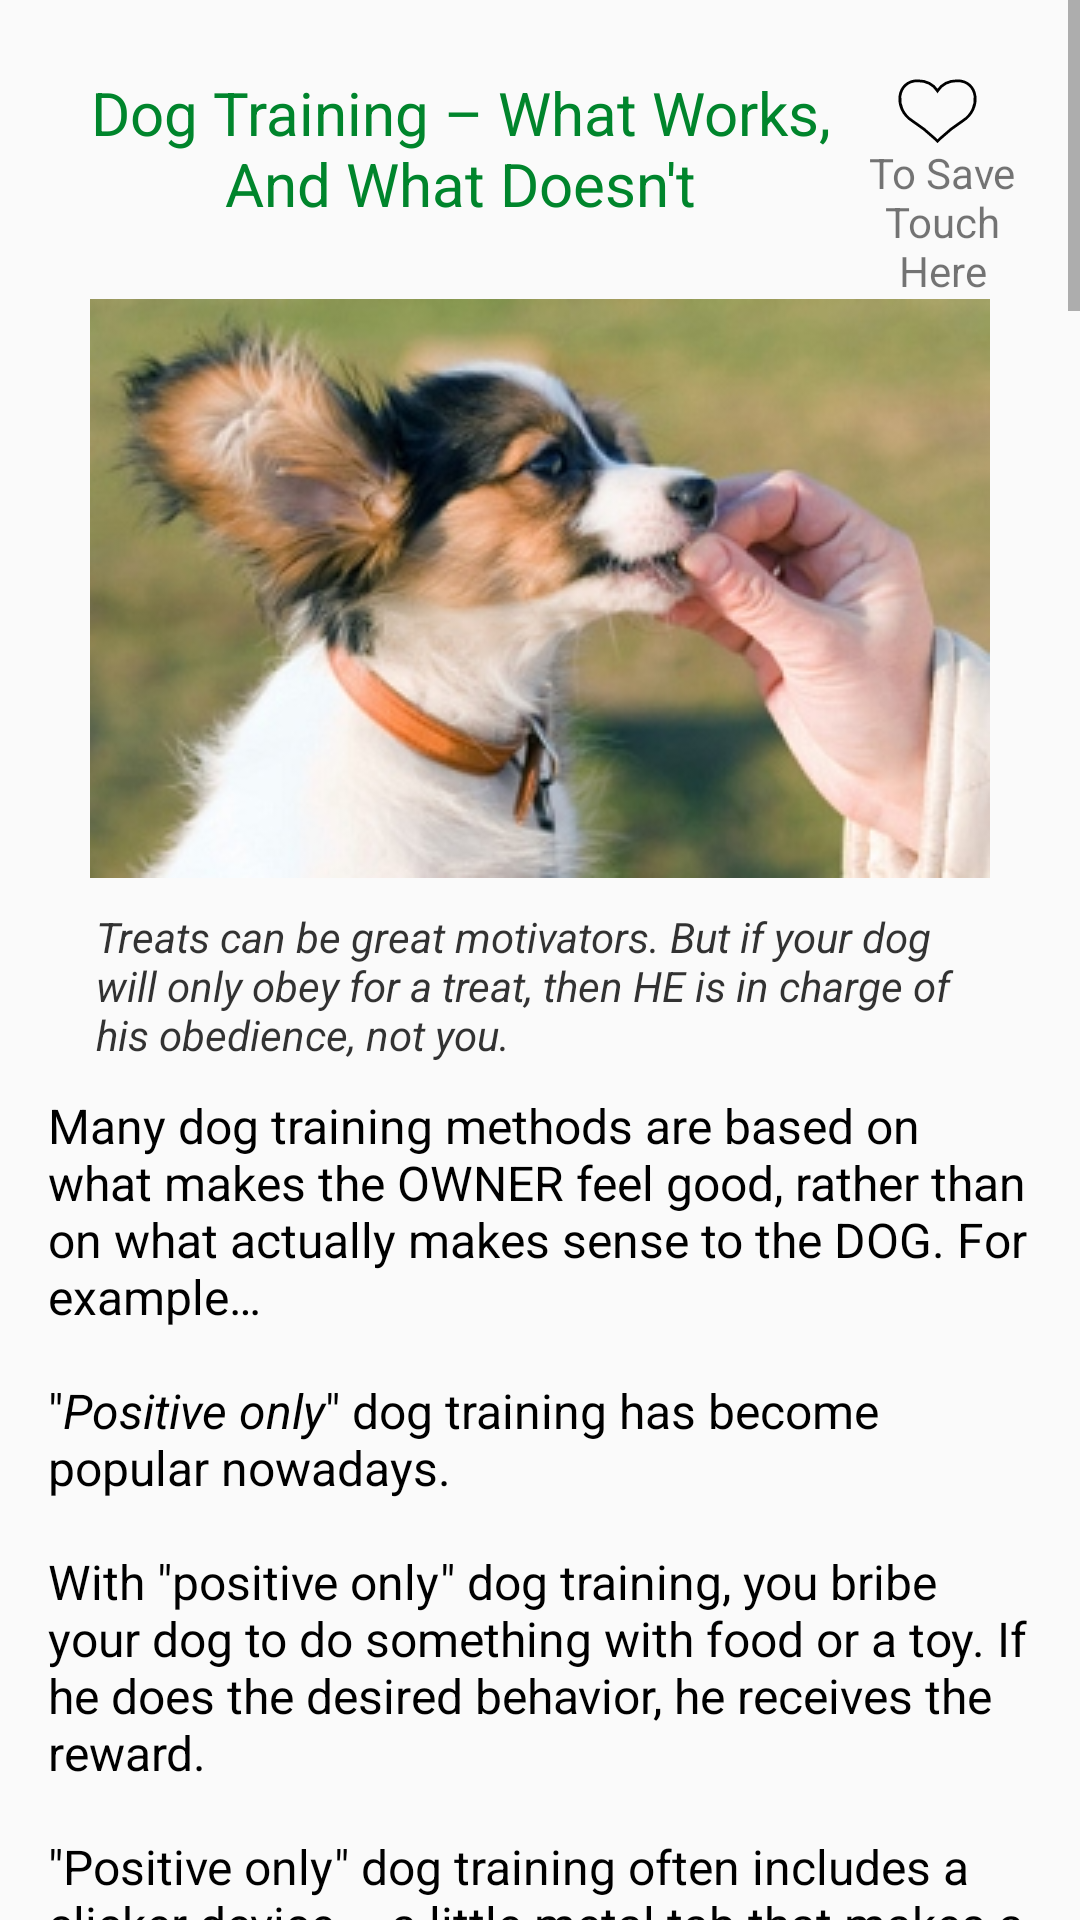

Screen size 1080px×1920px. Icon name, then its box in pixels as Rect(x1, y1, x2, y2):
heart: Rect(898, 79, 977, 143)
